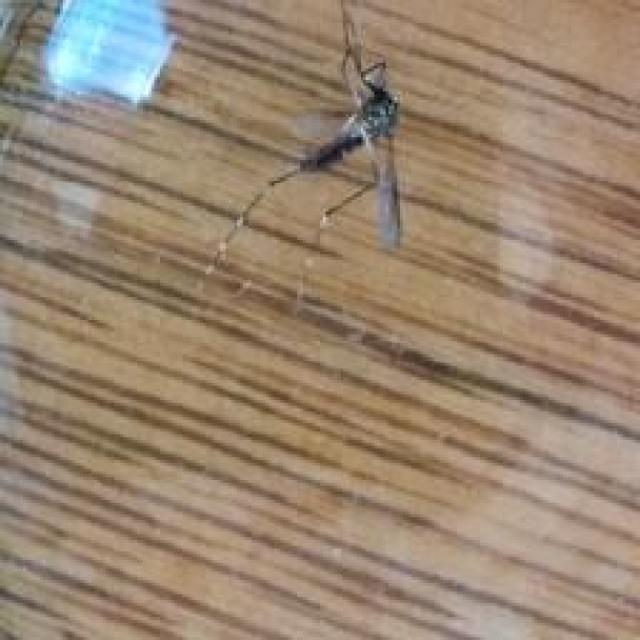Aedes albopictus: (267, 1, 407, 253)
